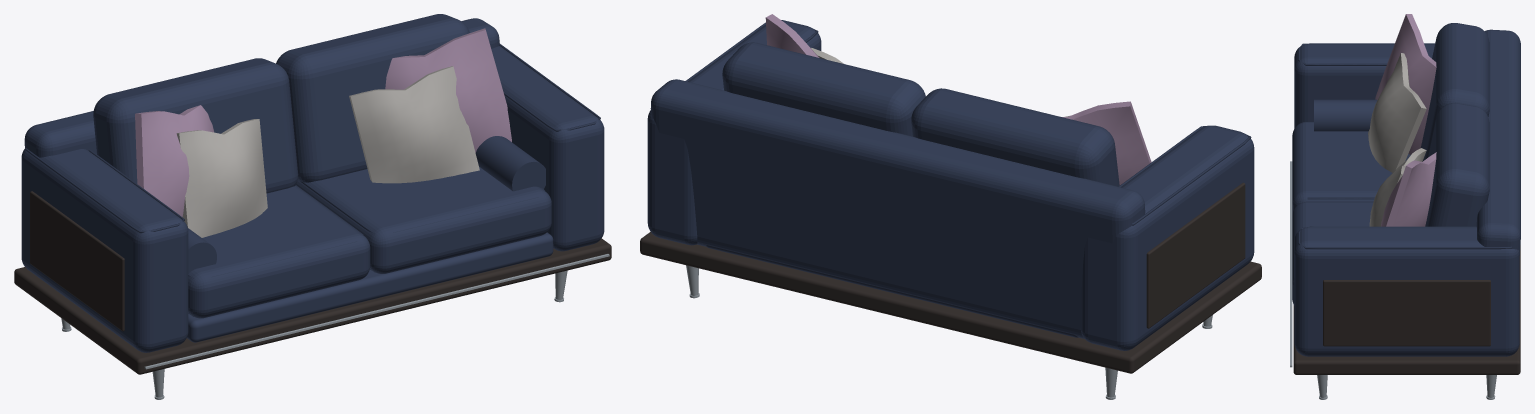
Rendered from milano-midnight-2.glb.
3 views of the same model, side by side, from view 1: azimuth 30°, elevation 25°; view 2: azimuth 150°, elevation 25°; view 3: azimuth 270°, elevation 25° (orthographic). The views are drawn at different scales.
Bounding box in the file's own units: 1.7 × 0.8344 × 0.7932.
